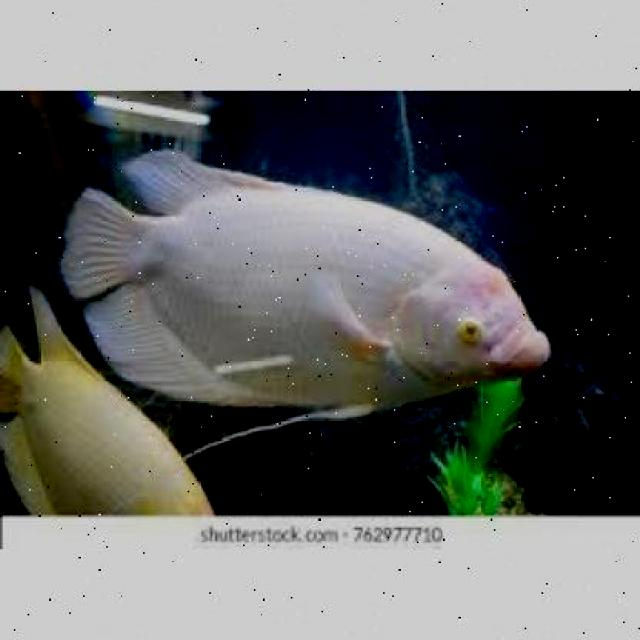gurame: (76, 149, 549, 426)
